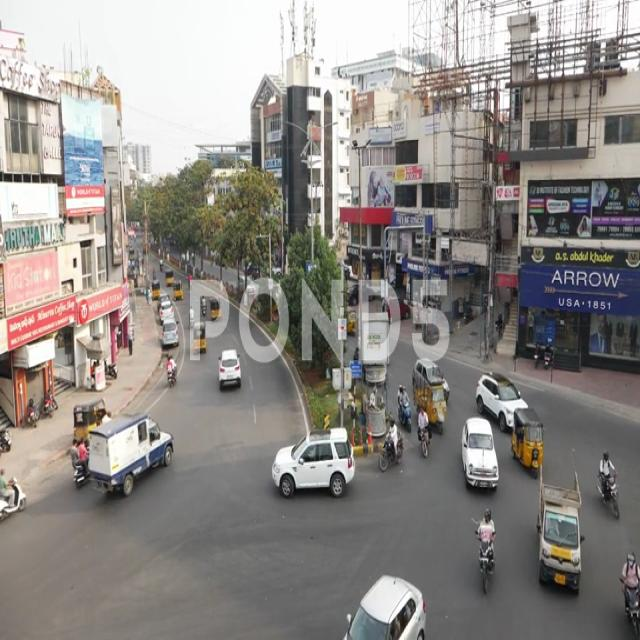cab: (459, 414, 500, 496)
car: (268, 424, 360, 500), (217, 341, 246, 394)
motorbike: (472, 502, 501, 597), (596, 445, 626, 522), (376, 412, 408, 474), (0, 460, 31, 522), (414, 401, 433, 460)
rikshaw: (513, 410, 545, 477)
truck: (94, 394, 188, 508), (536, 463, 582, 594)
